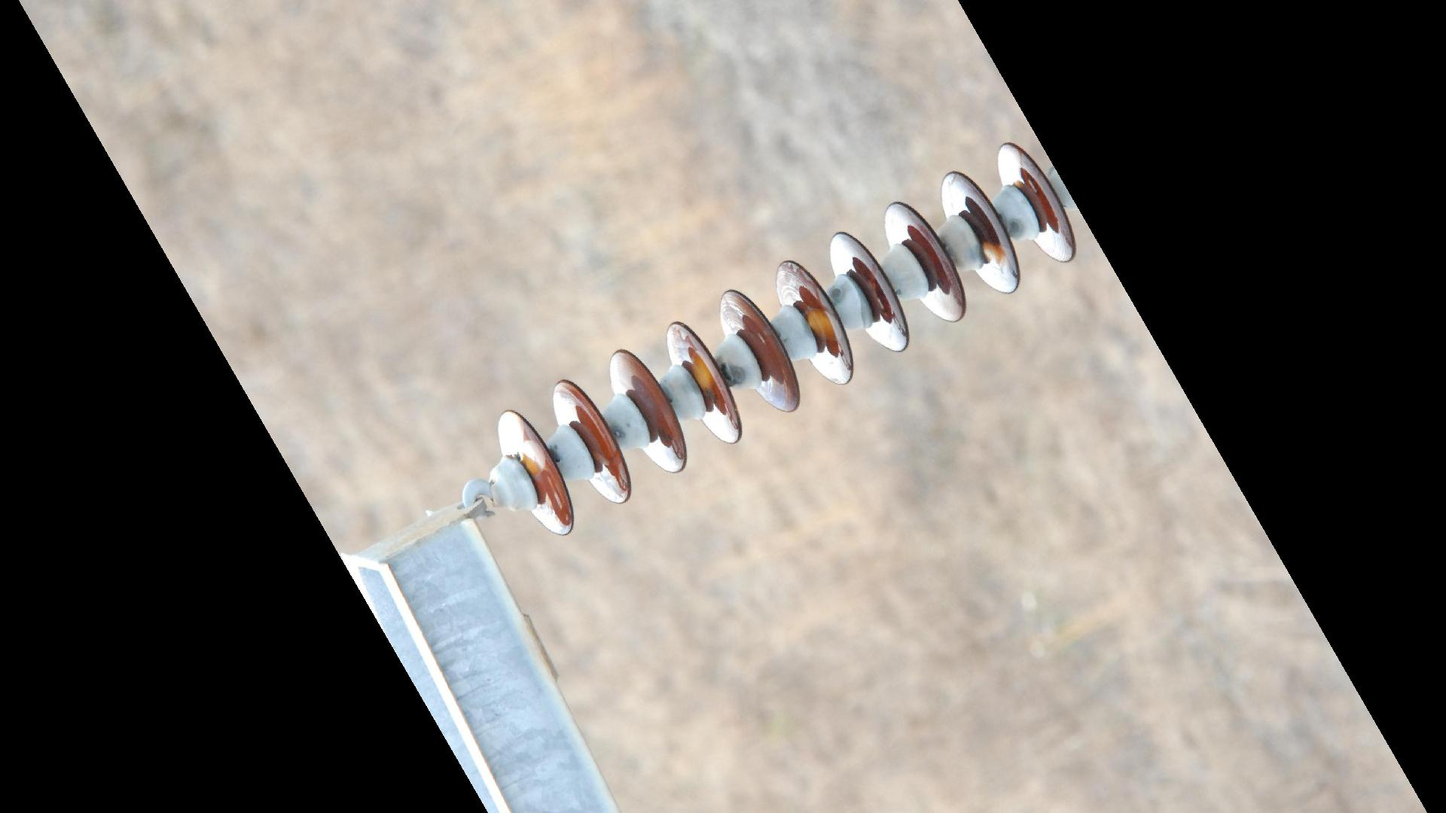insulator: (492, 138, 1081, 540)
insulator_flashover: (804, 306, 847, 344), (689, 347, 719, 394), (517, 437, 550, 479), (981, 239, 1013, 271)
